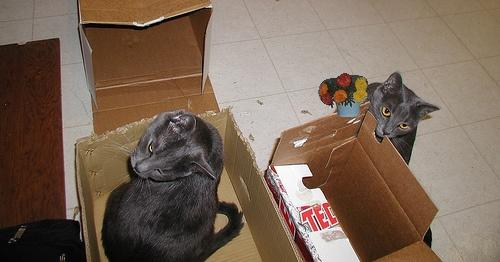tampered: (319, 74, 368, 117)
